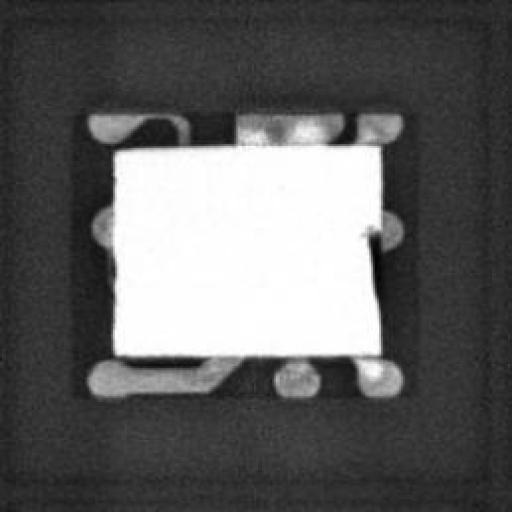DIE_BROKEN: (361, 224, 381, 301)
